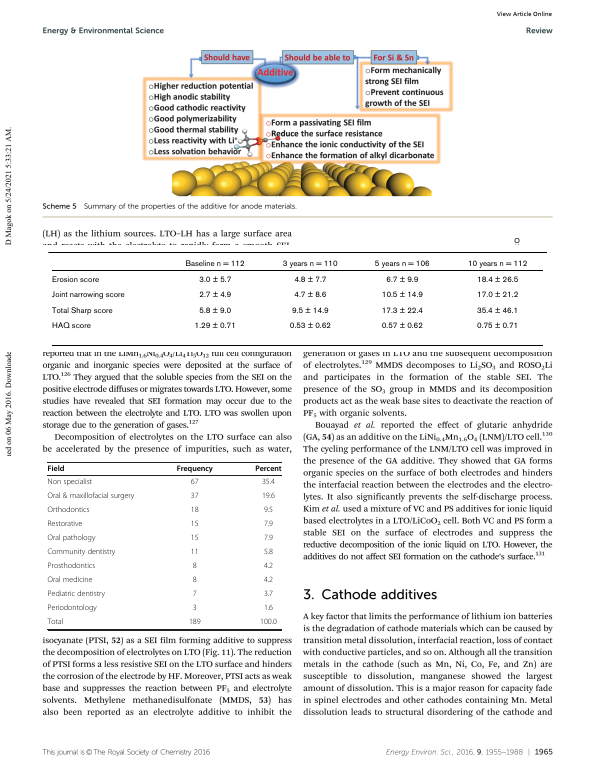borderless: (47, 250, 543, 345), (46, 461, 281, 629)
cell: (47, 492, 135, 502), (50, 291, 125, 301), (47, 548, 116, 558), (50, 306, 113, 316), (466, 259, 528, 269), (184, 259, 245, 269), (47, 590, 106, 600), (281, 259, 338, 269), (373, 259, 430, 269), (47, 604, 98, 614), (50, 275, 99, 285), (47, 534, 96, 544), (47, 562, 96, 572), (47, 478, 93, 488), (47, 576, 93, 586), (475, 275, 519, 285), (475, 291, 519, 301), (475, 306, 519, 316), (475, 322, 519, 332), (380, 291, 423, 301), (380, 306, 423, 316), (193, 322, 236, 332), (288, 322, 331, 332), (380, 322, 423, 332), (47, 506, 90, 516), (50, 322, 91, 332), (290, 306, 329, 316), (47, 520, 83, 530), (176, 465, 214, 474), (198, 275, 232, 285), (293, 275, 327, 285), (385, 275, 419, 285), (198, 291, 232, 301), (293, 291, 327, 301), (198, 306, 232, 316), (254, 465, 282, 474), (259, 618, 278, 628), (47, 618, 64, 628), (47, 465, 65, 474), (261, 478, 276, 488), (261, 492, 276, 502), (188, 618, 201, 628), (263, 506, 274, 516), (263, 520, 274, 530), (263, 534, 274, 544), (263, 548, 274, 558), (263, 562, 274, 572), (263, 576, 274, 586), (263, 590, 274, 600), (263, 604, 274, 614), (190, 478, 199, 488), (190, 492, 199, 502), (190, 506, 199, 516), (190, 520, 199, 530), (190, 534, 199, 544), (190, 548, 199, 558), (192, 562, 198, 572), (192, 576, 198, 586), (192, 590, 198, 600), (192, 604, 198, 614)
